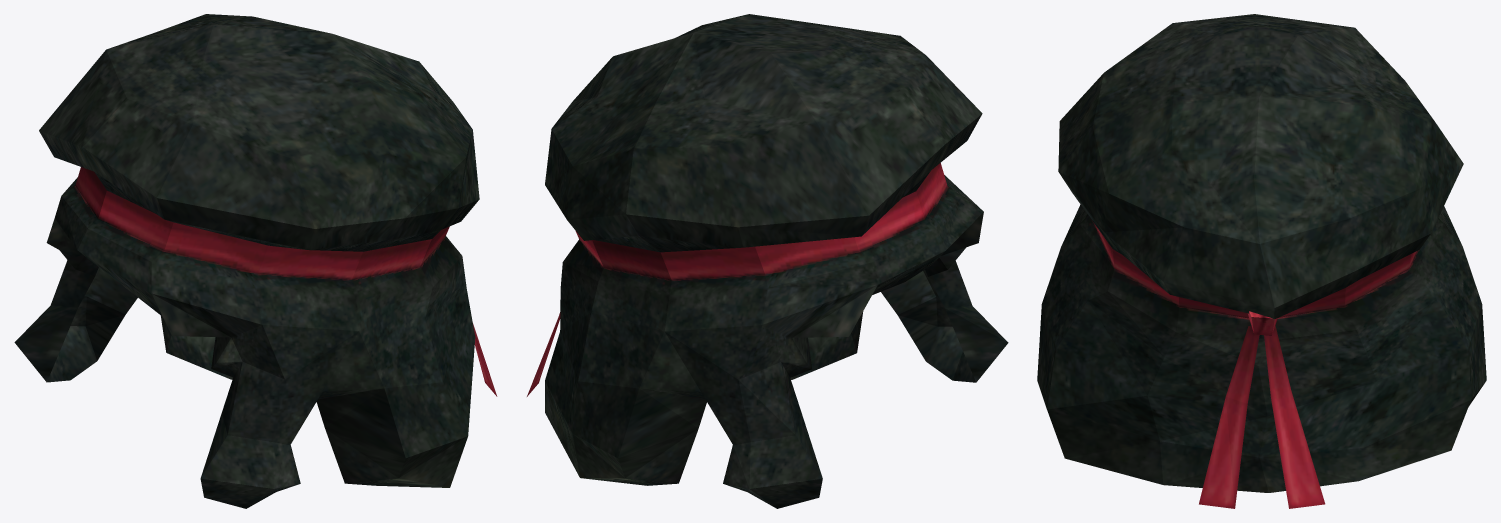
Rendered from Mole_superStarWig.obj.
The picture shows the model from 3 angles, left to right: view 1: azimuth 30°, elevation 25°; view 2: azimuth 150°, elevation 25°; view 3: azimuth 270°, elevation 25°; orthographic projection. The views are drawn at different scales.
Parts seen in each view (by area): view 1: Mole_superStarWig_tri; view 2: Mole_superStarWig_tri; view 3: Mole_superStarWig_tri.
Part boxes in pixels (left/top/right/bottom): Mole_superStarWig_tri: left=14, top=14, right=497, bottom=508; Mole_superStarWig_tri: left=527, top=14, right=1008, bottom=508; Mole_superStarWig_tri: left=1037, top=14, right=1486, bottom=508.
Bounding box in the file's own units: 0.4173 × 0.4171 × 0.4432.
Materials: 1 (1 with a texture image).
